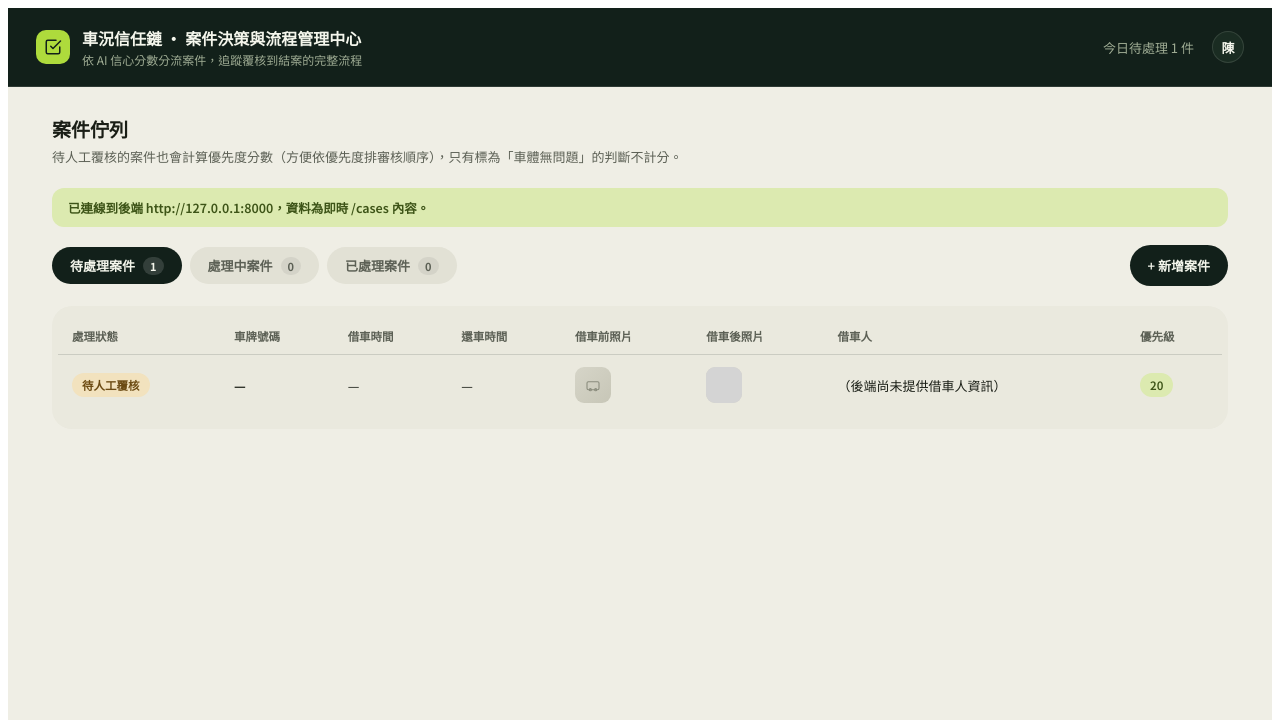
Test case: production backstage console › renders the real Case list returned by Module E
Check: the text "已連線到後端 http://127.0.0.1:8000，資料為即時 /cases 內容。" is shown, box [52,188,1228,227]
Check: the text "待人工覆核" is shown, box [72,373,150,397]
Click the row "待人工覆核 — — — （後端尚未提供借車人資訊） 20".
click(640, 385)  # box [58,354,1222,415]
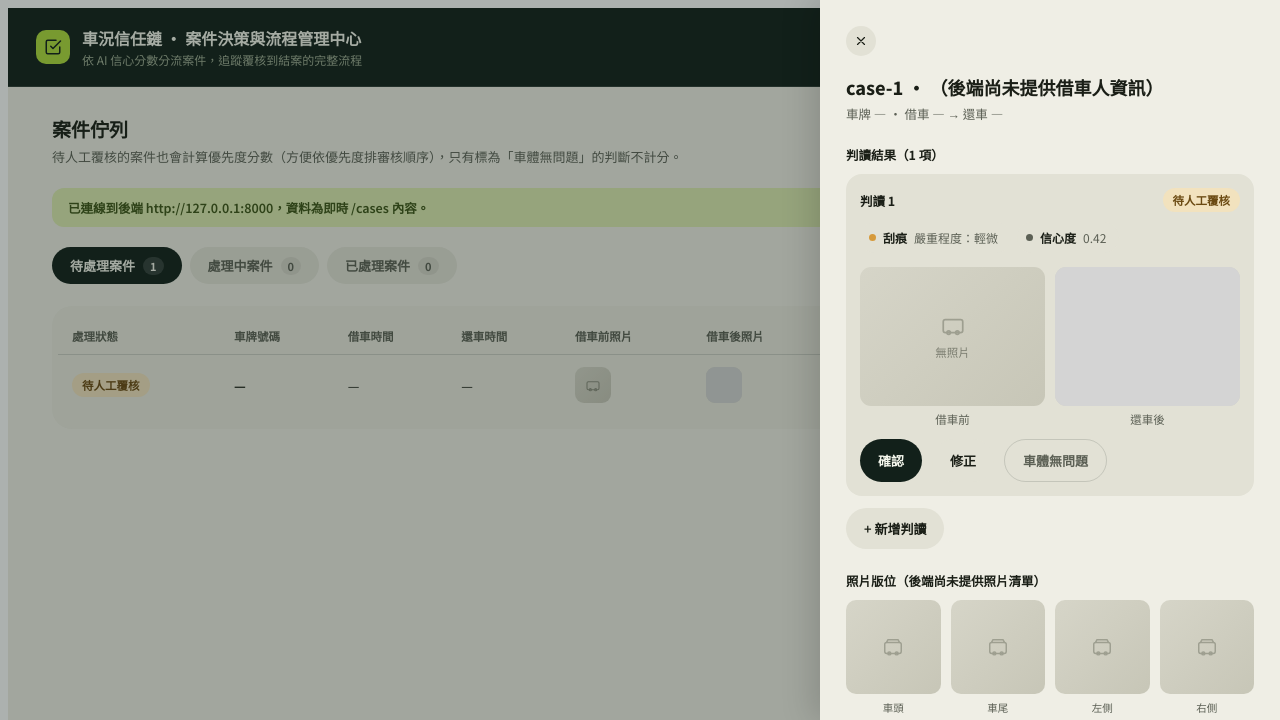
Check: the heading "case-1 · （後端尚未提供借車人資訊）" is shown, box [846,74,1164,100]
